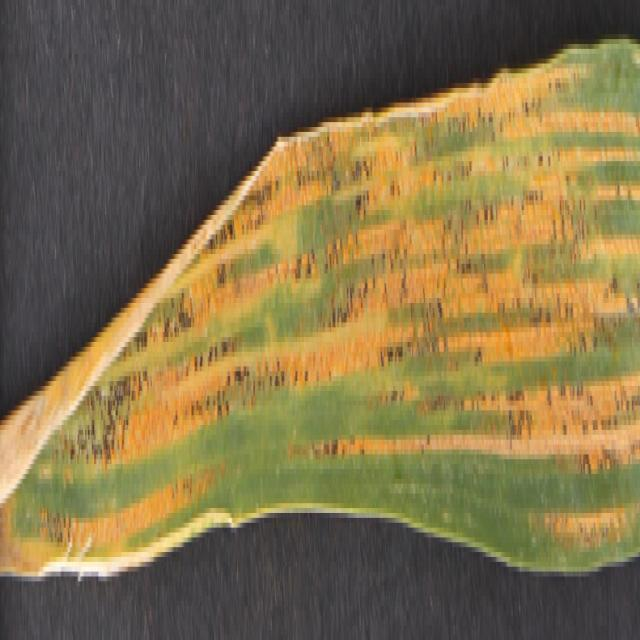leaf rust: (101, 54, 639, 542)
